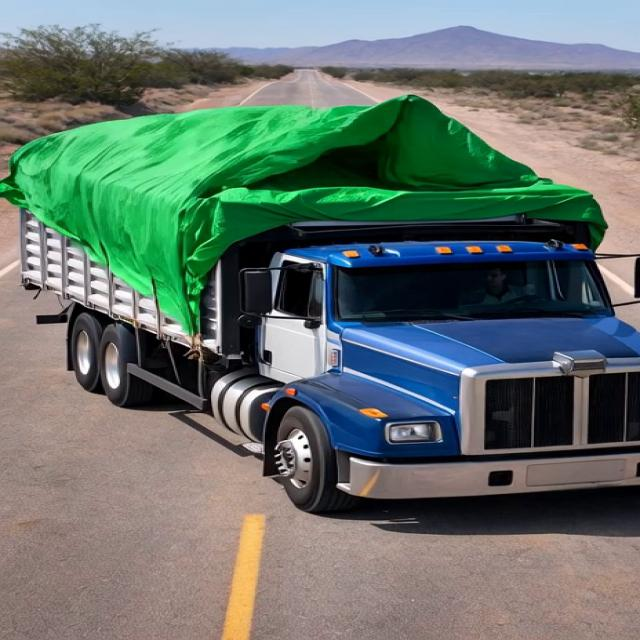Box: (11, 91, 602, 264)
Truck: (4, 68, 638, 564)
